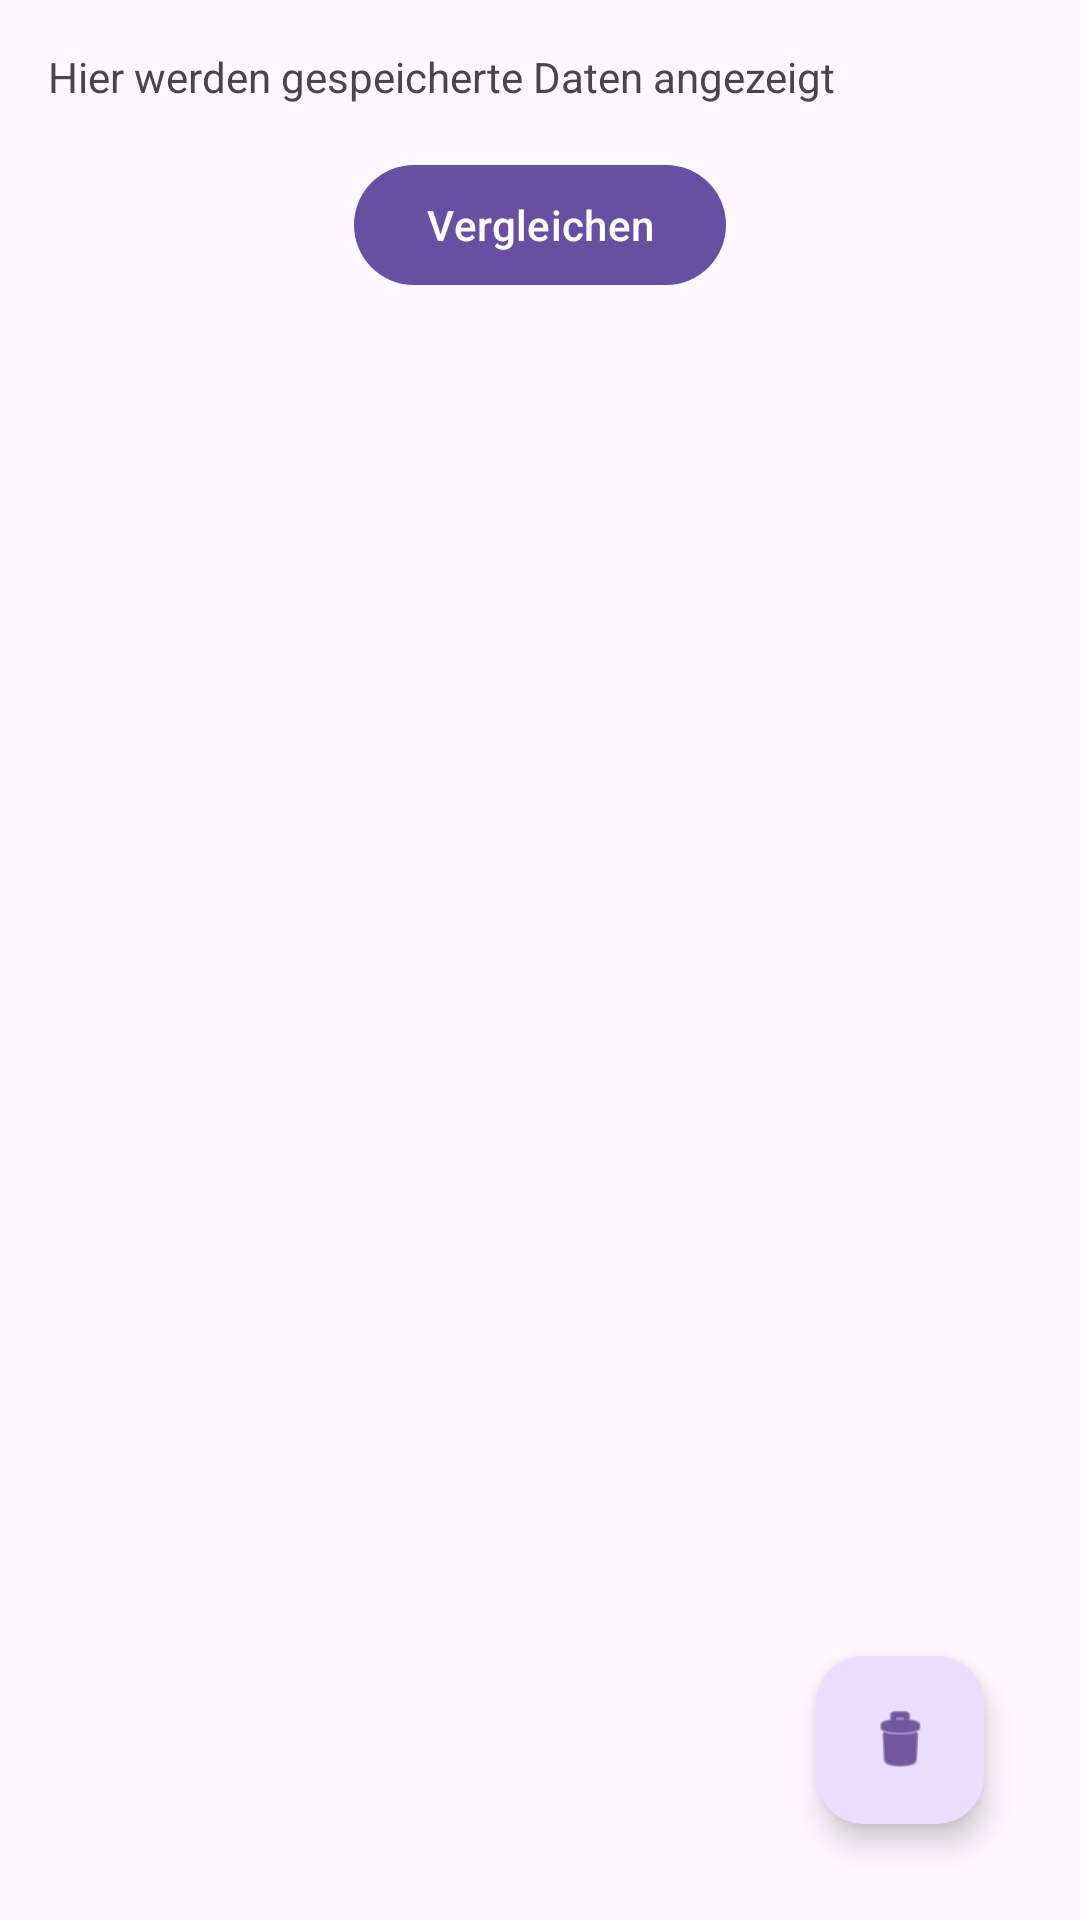

Icon bounding boxes for this 1080px x 1920px phone screenshot, format {"left": x1, "top": y1, "right": x2, "bottom": y2}:
Alle löschen: {"left": 816, "top": 1656, "right": 984, "bottom": 1824}
